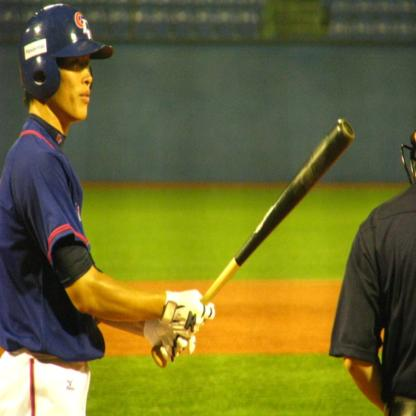Helmet: (16, 3, 114, 107)
